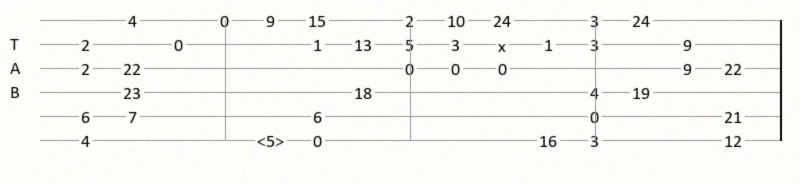0: (174, 37, 187, 52), (220, 13, 233, 28), (313, 133, 326, 148), (405, 61, 418, 76), (451, 61, 464, 76), (498, 61, 511, 76), (590, 109, 603, 124)
1: (313, 37, 326, 52), (544, 37, 557, 52)
10: (447, 13, 469, 28)
12: (724, 133, 746, 148)
13: (354, 37, 376, 52)
15: (308, 13, 330, 28)
16: (539, 133, 561, 148)
18: (354, 85, 376, 100)
19: (632, 85, 654, 100)
2: (81, 61, 94, 76), (81, 37, 94, 52), (405, 13, 418, 28)
21: (724, 109, 746, 124)
22: (123, 61, 145, 76), (724, 61, 746, 76)
23: (123, 85, 145, 100)
24: (493, 13, 515, 28), (632, 13, 654, 28)
3: (451, 37, 464, 52), (590, 133, 603, 148), (590, 13, 603, 28), (590, 37, 603, 52)
4: (81, 133, 94, 148), (128, 13, 141, 28), (590, 85, 603, 100)
5: (405, 37, 418, 52)
6: (81, 109, 94, 124), (313, 109, 326, 124)
7: (128, 109, 141, 124)
9: (266, 13, 279, 28), (683, 37, 696, 52), (683, 61, 696, 76)
harmonic: (257, 133, 288, 148)
x: (498, 38, 510, 50)
